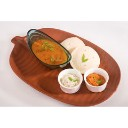idly: (71, 47, 100, 71), (61, 37, 85, 53)
